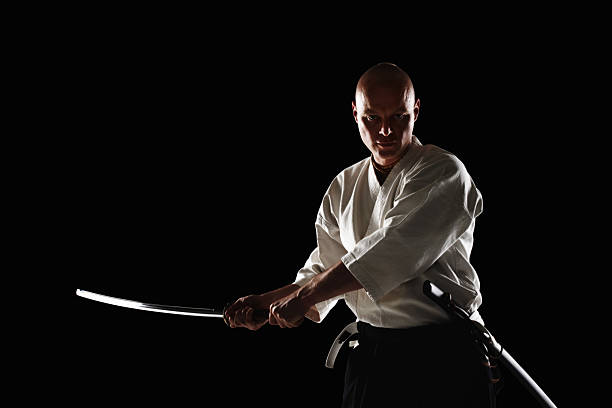knife: (74, 286, 231, 325)
